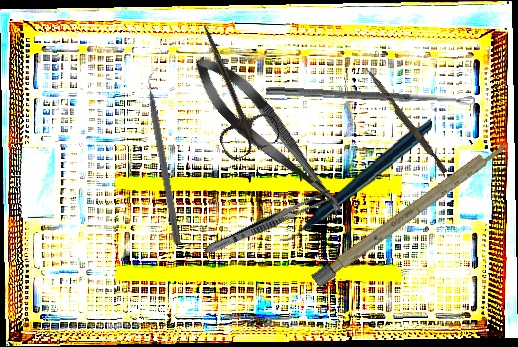Chopper: (143, 68, 191, 245)
Dressing Forceps: (202, 186, 334, 259)
Handpiece: (273, 118, 438, 242)
Iris Scissors: (174, 15, 285, 163)
Micro Scissor: (183, 45, 357, 227)
Pusher: (360, 66, 451, 175)
Scalpel Handle: (311, 137, 510, 288)
Surgical Spoon: (265, 86, 476, 107)
